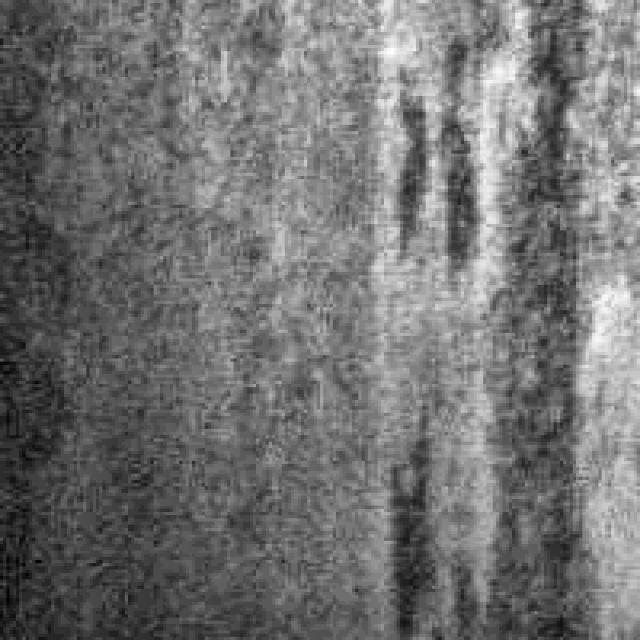Patches: (470, 3, 608, 624), (378, 13, 500, 304), (374, 403, 448, 624)
